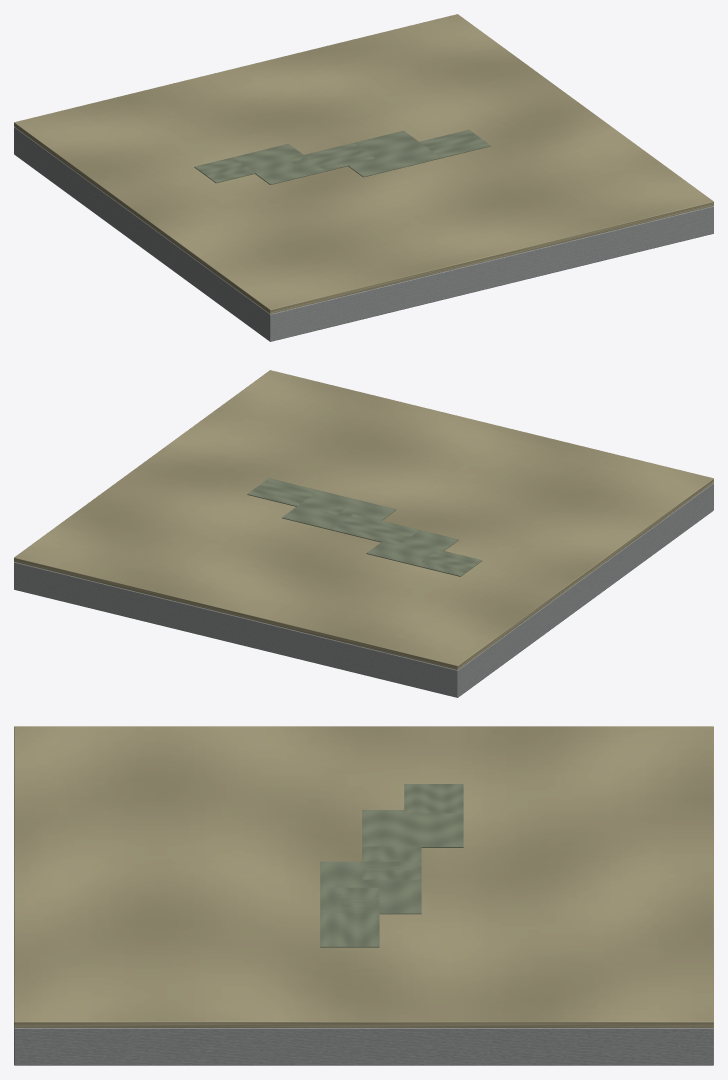
File: three-d-liminal-spaces-kit-liminal-spaces-kit-damp-floor-48fe1d01.glb
3 views of the same model, one above another, from view 1: azimuth 30°, elevation 25°; view 2: azimuth 150°, elevation 25°; view 3: azimuth 270°, elevation 25° (orthographic). The views are drawn at different scales.
Visible parts, largest first — view 1: damp-floor; view 2: damp-floor; view 3: damp-floor.
Boxes of the visible parts, <box> form: damp-floor: <box>14,14,713,341</box>; damp-floor: <box>14,370,713,697</box>; damp-floor: <box>14,726,713,1065</box>.
Bounding box in the file's own units: 2 × 0.144 × 2.
Materials: 3 (3 with a texture image).
